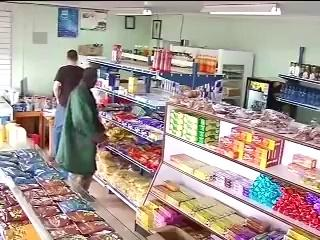Product: (96, 124, 117, 144)
Product-Picked: (54, 68, 134, 189)
Regular: (57, 43, 89, 75)
